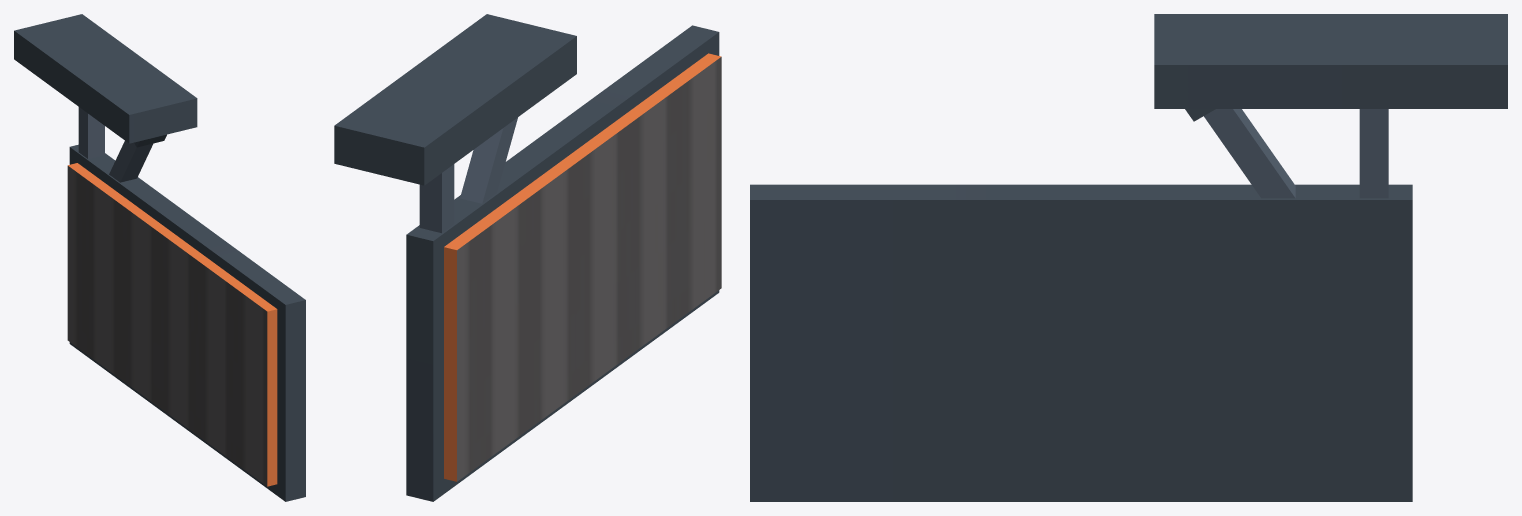
File: SignProp_1_A_1.fbx
The picture shows the model from 3 angles, left to right: view 1: azimuth 30°, elevation 25°; view 2: azimuth 150°, elevation 25°; view 3: azimuth 270°, elevation 25°; orthographic projection. The views are drawn at different scales.
Visible parts, largest first — view 1: SignProp_1_A_1; view 2: SignProp_1_A_1; view 3: SignProp_1_A_1.
Part boxes in pixels (x1=…): SignProp_1_A_1: x1=14, y1=14, x2=305, y2=501; SignProp_1_A_1: x1=334, y1=14, x2=721, y2=501; SignProp_1_A_1: x1=750, y1=14, x2=1507, y2=501.
Bounding box in the file's own units: 20.79 × 86.49 × 131.
